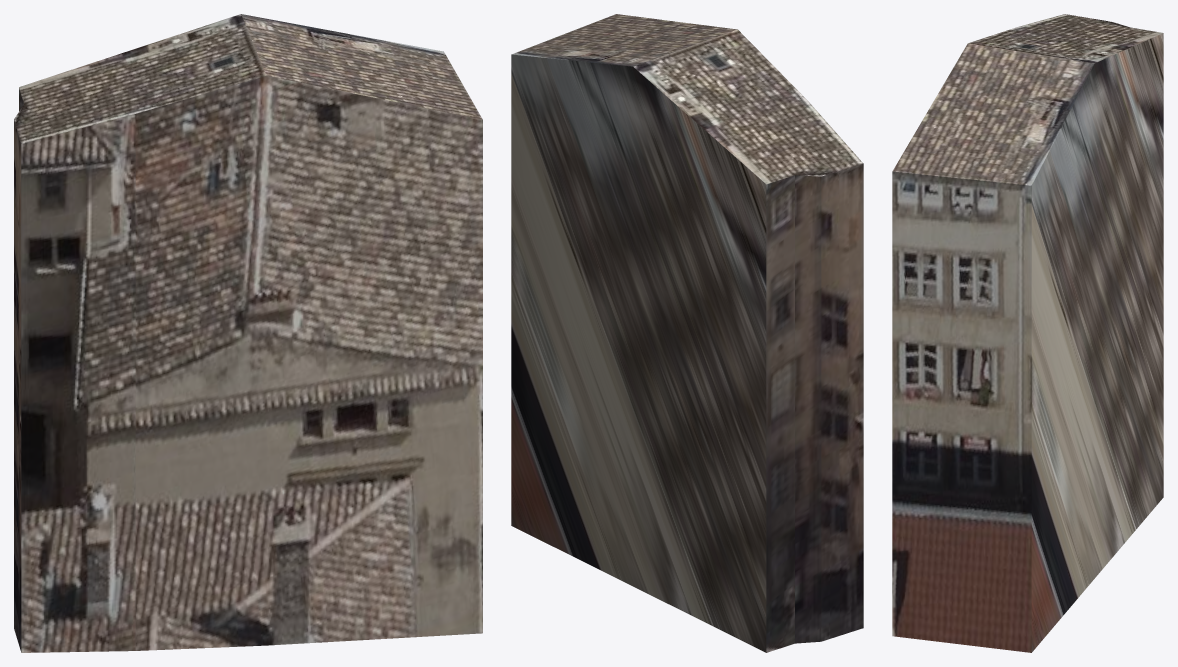
The picture shows the model from 3 angles, left to right: view 1: azimuth 30°, elevation 25°; view 2: azimuth 150°, elevation 25°; view 3: azimuth 270°, elevation 25°; orthographic projection. The views are drawn at different scales.
Parts seen in each view (by area): view 1: Z_UP; view 2: Z_UP; view 3: Z_UP.
Boxes of the visible parts, bbox=[...] form: Z_UP: bbox=[14, 14, 482, 652]; Z_UP: bbox=[511, 14, 863, 652]; Z_UP: bbox=[892, 14, 1163, 652].
Size of the model in its own units: 14 by 18.85 by 8.99.
2 materials, 1 textured.
